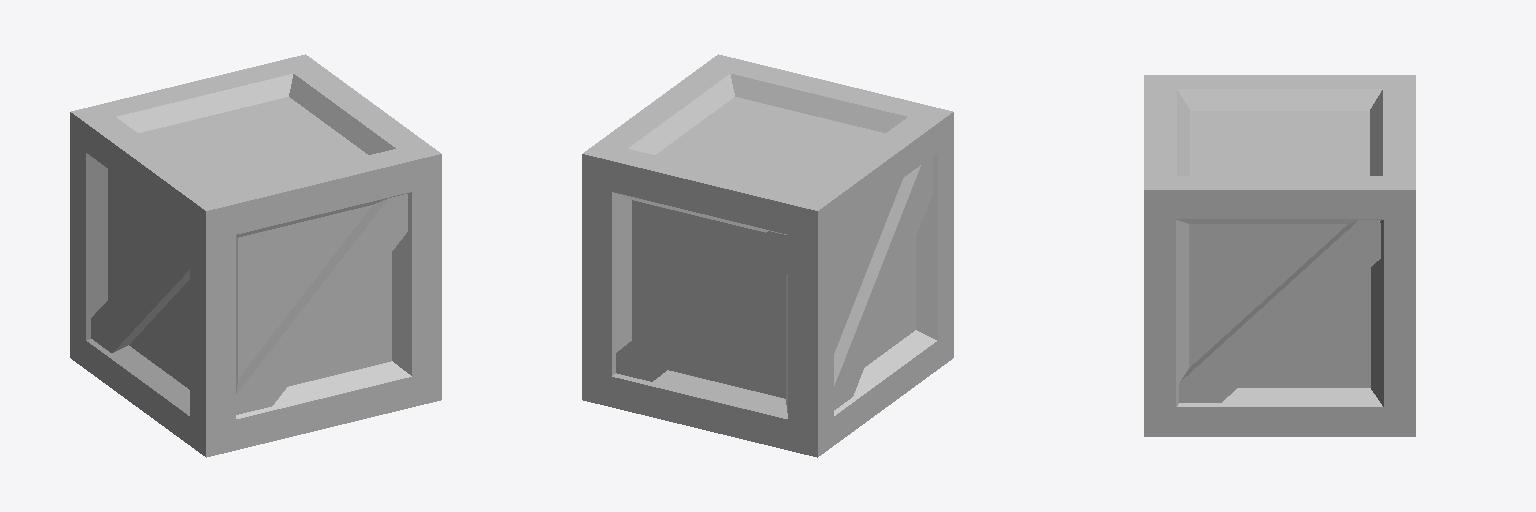
File: boxcrate.obj
3 renders of one model, left to right at view 1: azimuth 30°, elevation 25°; view 2: azimuth 150°, elevation 25°; view 3: azimuth 270°, elevation 25°, orthographic.
Visible parts, largest first — view 1: pCube15, pCube16, pCube20 polySurface9; view 2: pCube15, polySurface8 pCube20, pCube20 polySurface9; view 3: pCube15, pCube17.
Boxes of the visible parts, box(x1,y1,x2,y2) form: pCube15: box(70, 54, 441, 457); pCube16: box(236, 194, 407, 414); pCube20 polySurface9: box(91, 222, 189, 352); pCube15: box(582, 54, 953, 457); polySurface8 pCube20: box(616, 231, 787, 381); pCube20 polySurface9: box(834, 157, 932, 409); pCube15: box(1144, 75, 1415, 436); pCube17: box(1179, 220, 1380, 402).
Size of the model in its own units: 3 by 3 by 3.